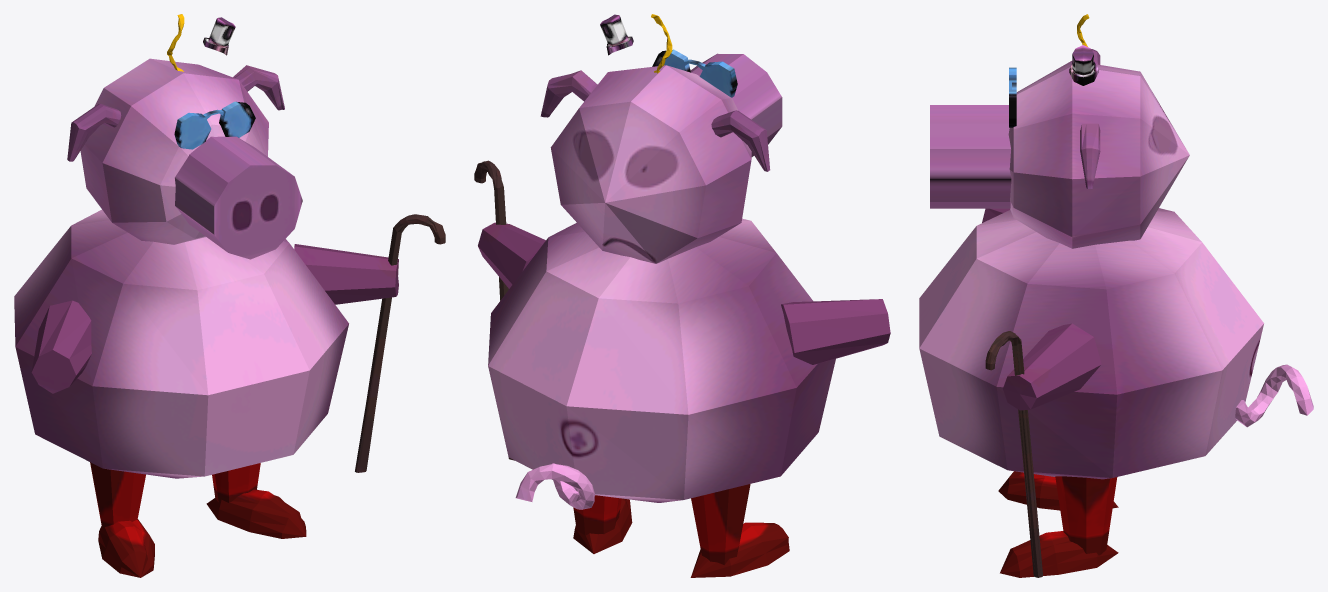
File: Farm3.glb
The picture shows the model from 3 angles, left to right: view 1: azimuth 30°, elevation 25°; view 2: azimuth 150°, elevation 25°; view 3: azimuth 270°, elevation 25°; orthographic projection. The views are drawn at different scales.
Visible parts, largest first — view 1: Farm3; view 2: Farm3; view 3: Farm3.
Part boxes in pixels (box(x1,y1,x2,y2)): Farm3: box(14, 14, 445, 577); Farm3: box(474, 14, 890, 577); Farm3: box(919, 14, 1313, 577).
Size of the model in its own units: 303 by 365 by 253.
Materials: 1 (1 with a texture image).
